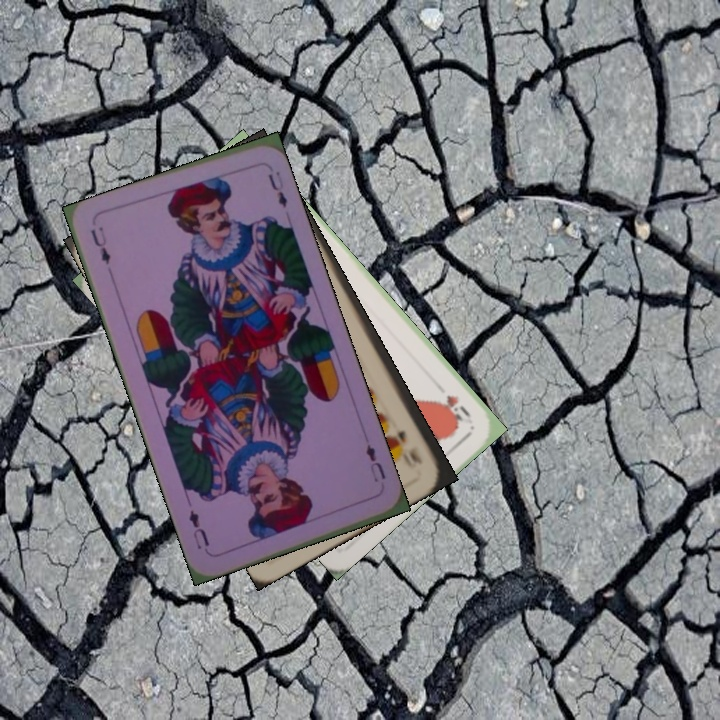E10: (393, 426, 425, 468)
EU: (86, 222, 114, 267), (361, 440, 388, 485)
HO: (439, 390, 473, 425)
